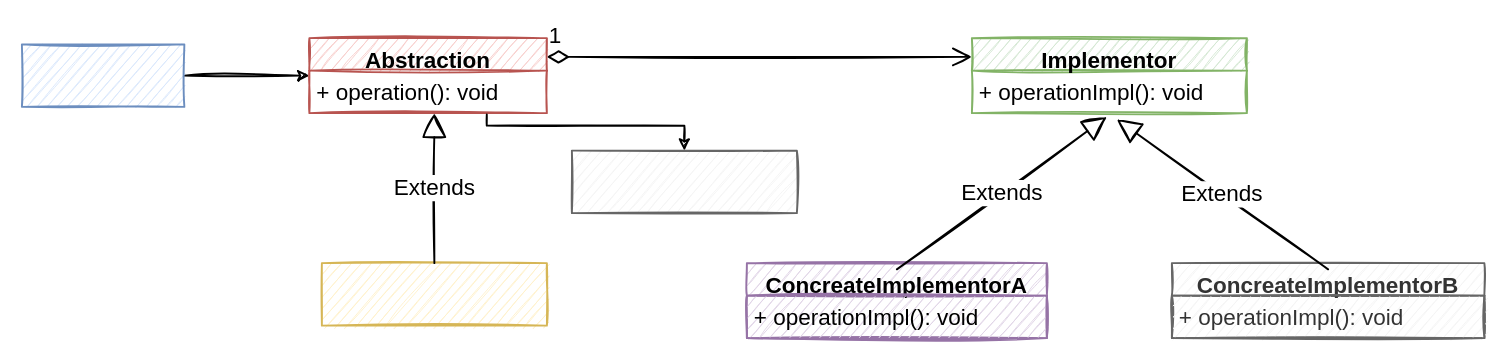
Some shapes in this 1508 by 363 pixel diagram are drawn without their labels. The shapes that lost their labels are listed below. From the top down, each one's centre as x and y in pixels, then its label:
the point at 102,75: Client
the point at 683,181: impl.operationImpl
the point at 433,294: RefineAbstraction
